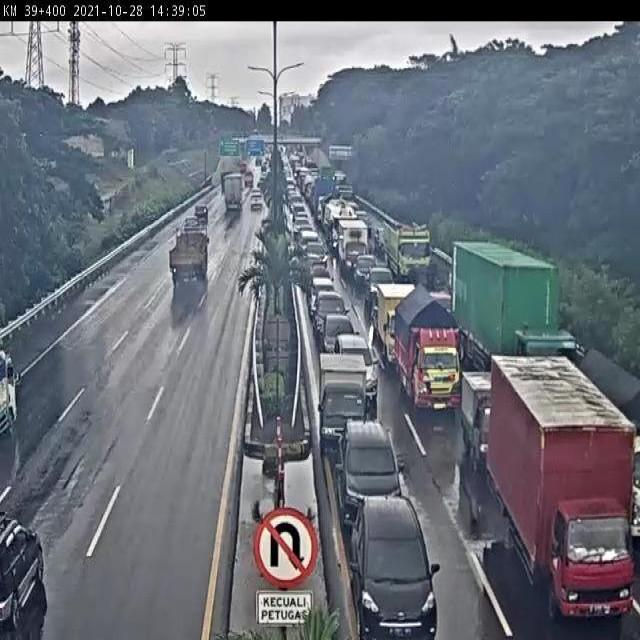big truck: (490, 356, 635, 619), (453, 240, 582, 395), (569, 339, 640, 545), (381, 220, 430, 285)
car: (348, 486, 441, 640), (339, 420, 408, 529), (334, 333, 380, 404), (313, 286, 351, 346), (312, 291, 348, 337), (322, 312, 355, 357), (365, 267, 395, 308), (352, 252, 378, 292), (309, 277, 336, 315), (304, 241, 329, 276), (308, 261, 332, 287), (183, 216, 200, 236)
small truck: (392, 284, 464, 417), (317, 353, 367, 459), (376, 284, 424, 367), (459, 371, 494, 466), (169, 229, 209, 287), (337, 220, 369, 276)
